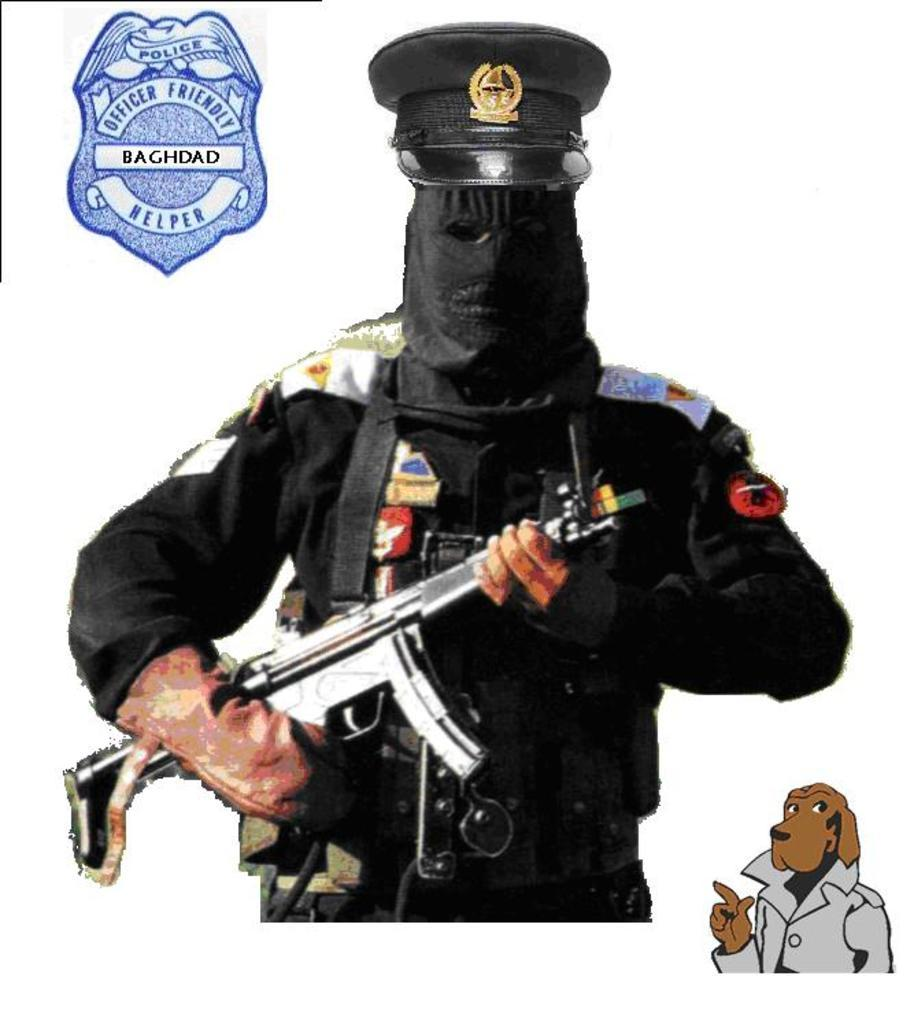non-violence: (66, 26, 847, 928)
weapon: (66, 480, 604, 868)
